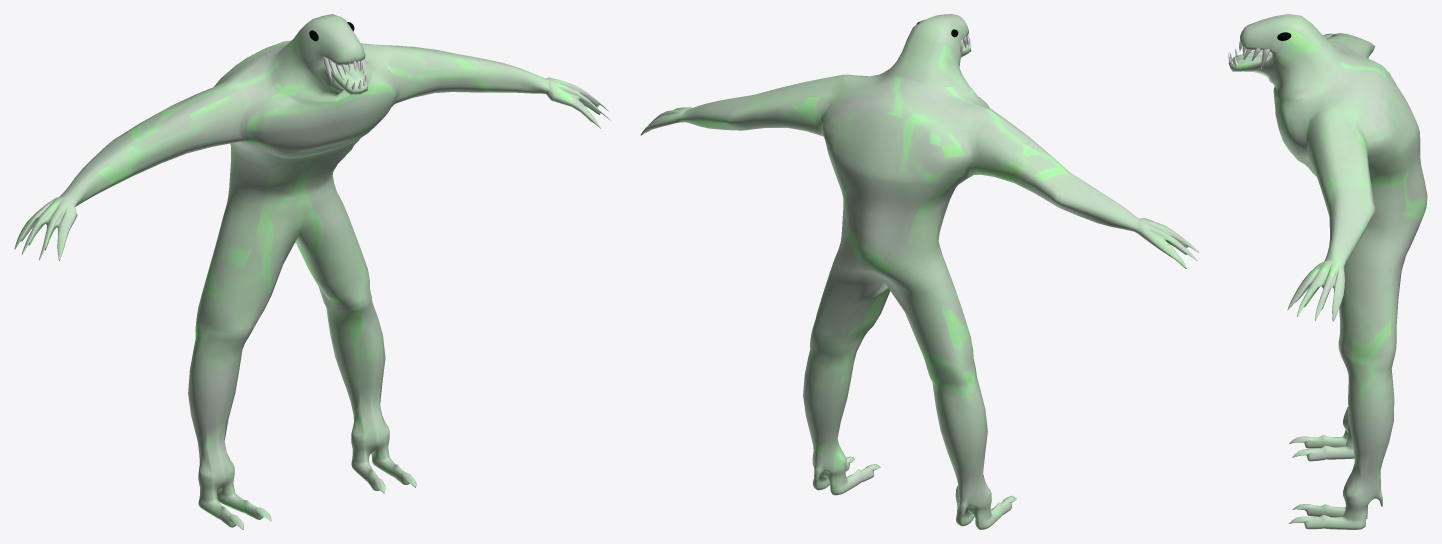
The model's file is alienberserker.obj.
3 views of the same model, side by side, from view 1: azimuth 30°, elevation 25°; view 2: azimuth 150°, elevation 25°; view 3: azimuth 270°, elevation 25° (orthographic). The views are drawn at different scales.
Parts seen in each view (by area): view 1: polySurface27; view 2: polySurface27; view 3: polySurface27.
Boxes of the visible parts, x1,y1,x2,y2 form: polySurface27: (14,14,610,529); polySurface27: (640,14,1198,529); polySurface27: (1228,14,1427,529).
Bounding box in the file's own units: 12.83 × 10.33 × 3.95.
1 material, 1 textured.
